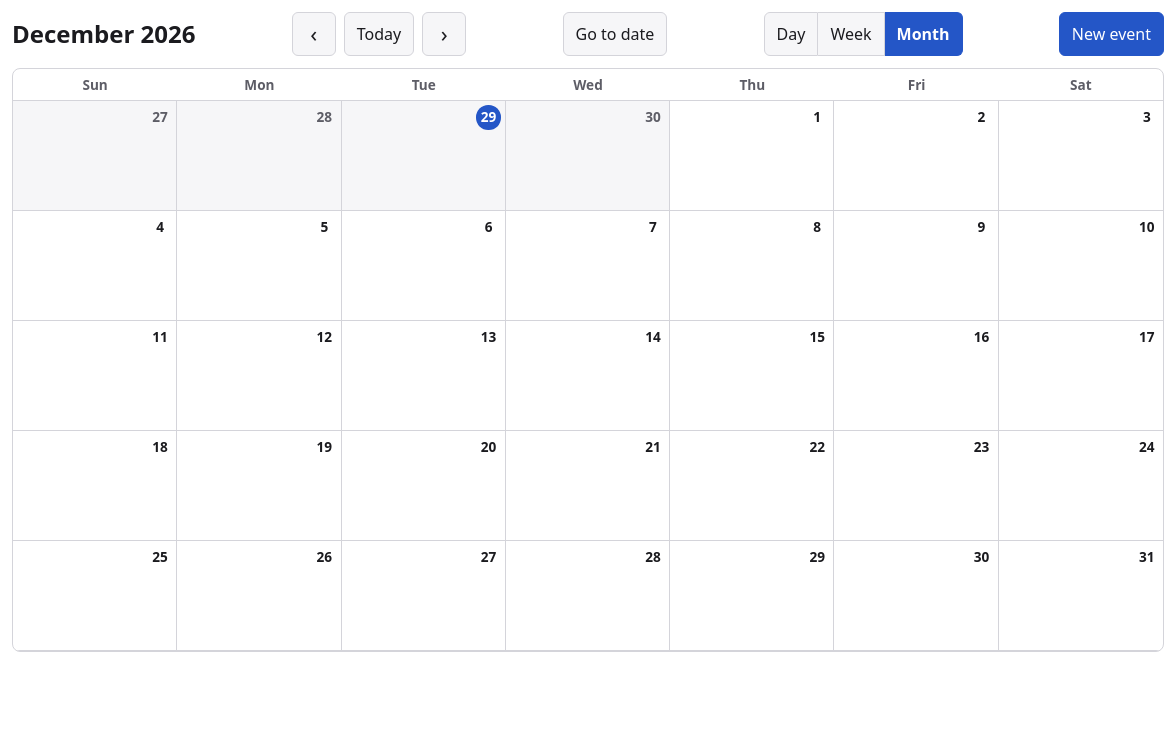
Test case: CalendarScreen: moving through time (US2) › steps one day, one week, or one clamped month (FR-008, FR-009)
The image size is (1176, 732).
Click the button "Day" at (791, 34), box [764,12,818,56]
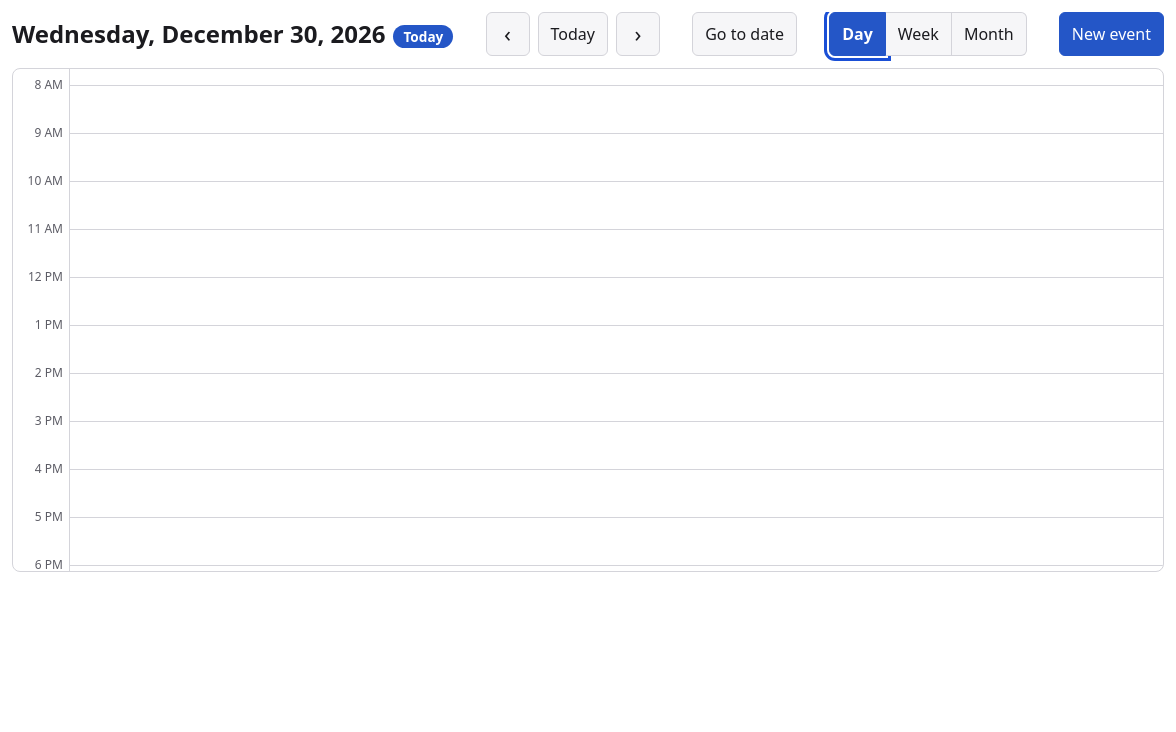
Click the button named "Next day" at (638, 34), box [616,12,660,56]
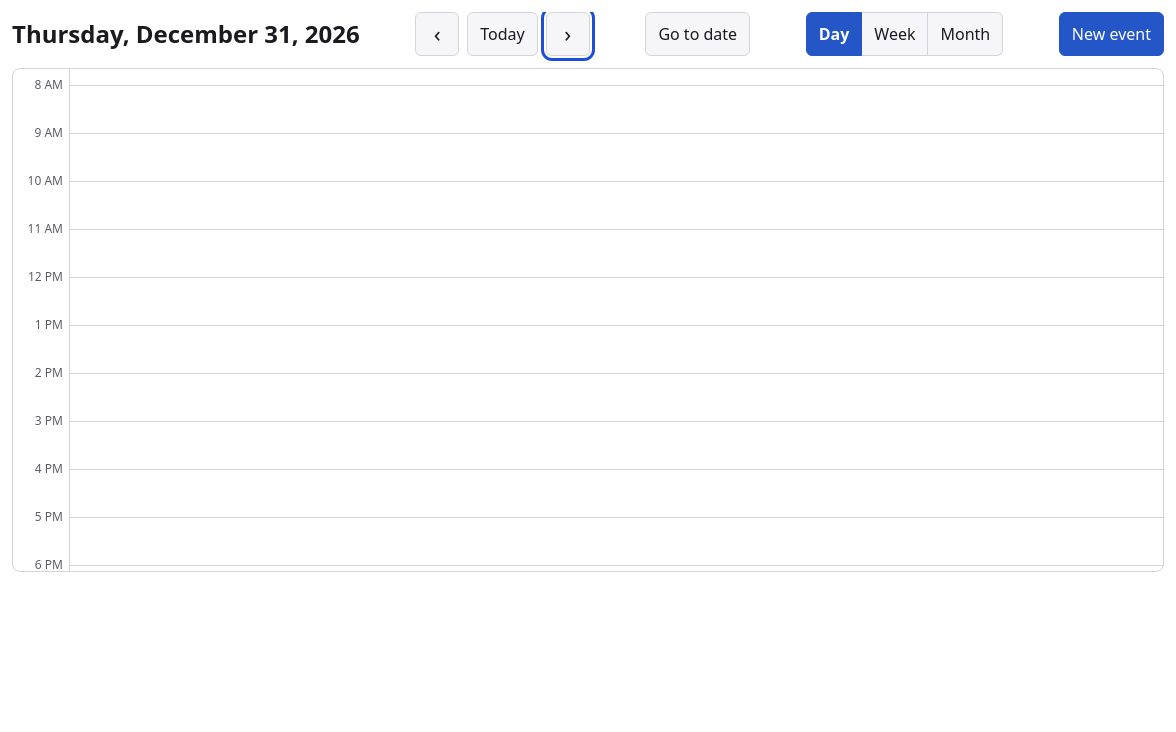
Click the button "Week" at (895, 34), box [862,12,928,56]
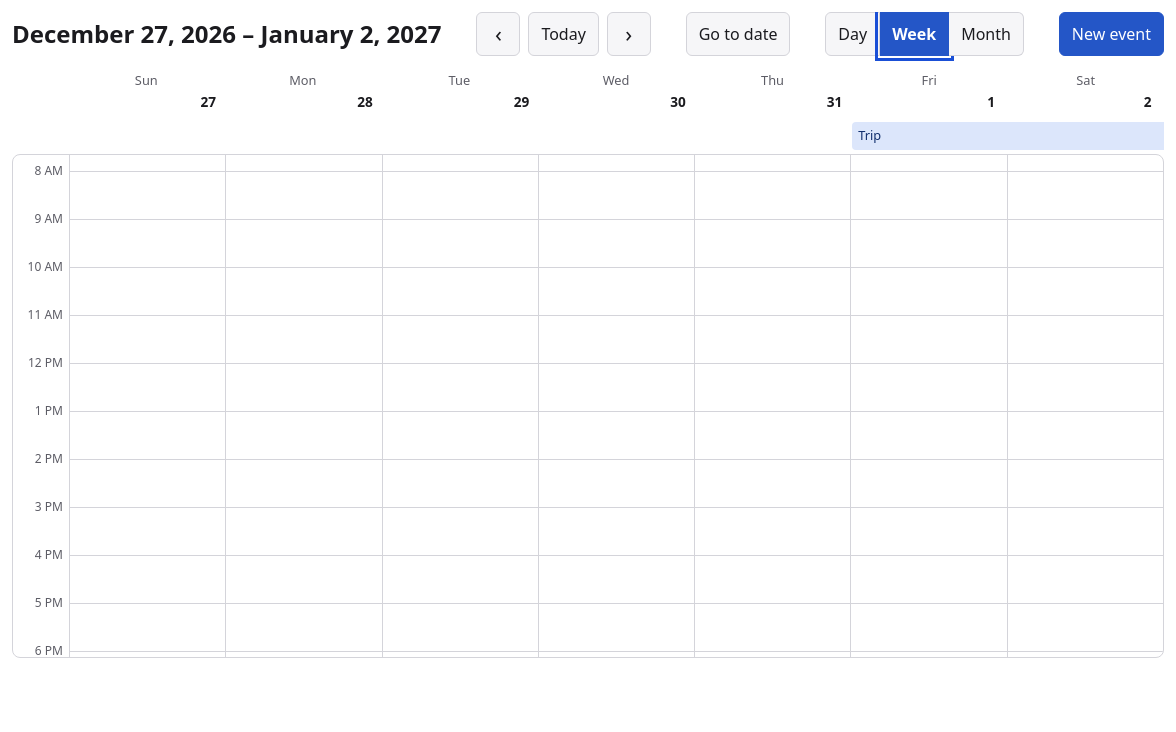
Check: the heading "December 27, 2026 – January 2, 2027" is shown, box [12,17,442,51]
Click the button named "Next week" at (629, 34), box [607,12,651,56]
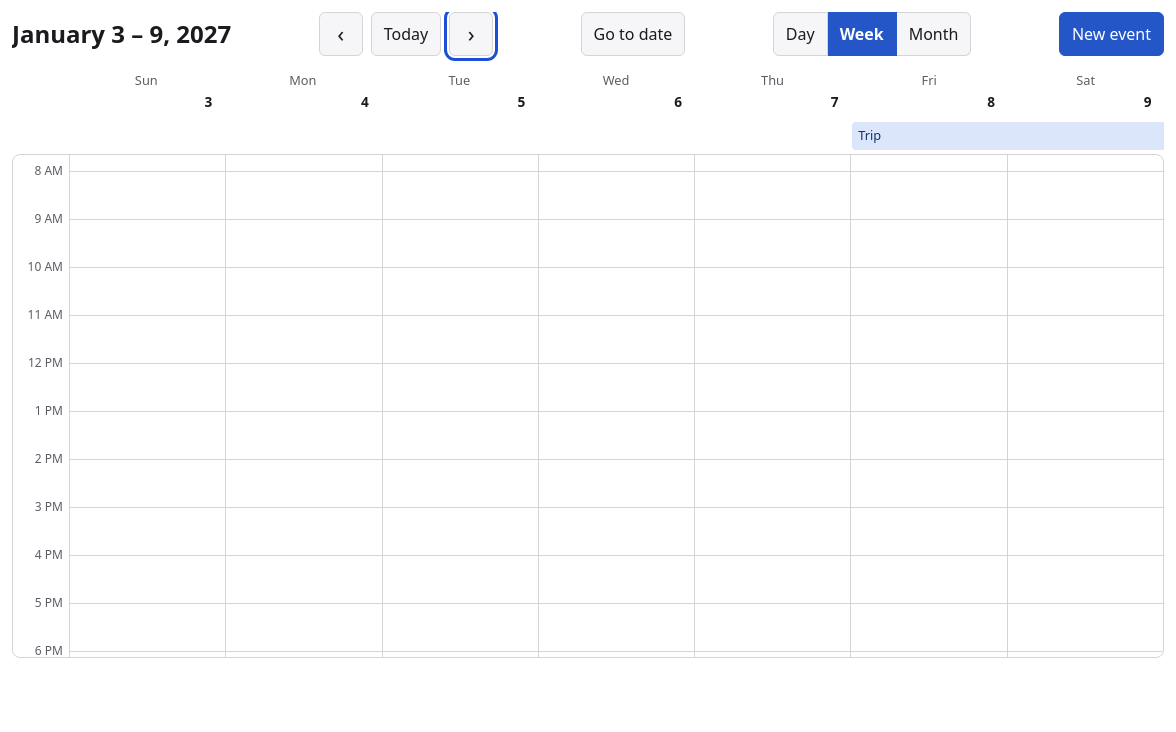
Check: the heading "January 3 – 9, 2027" is shown, box [12,17,231,51]
